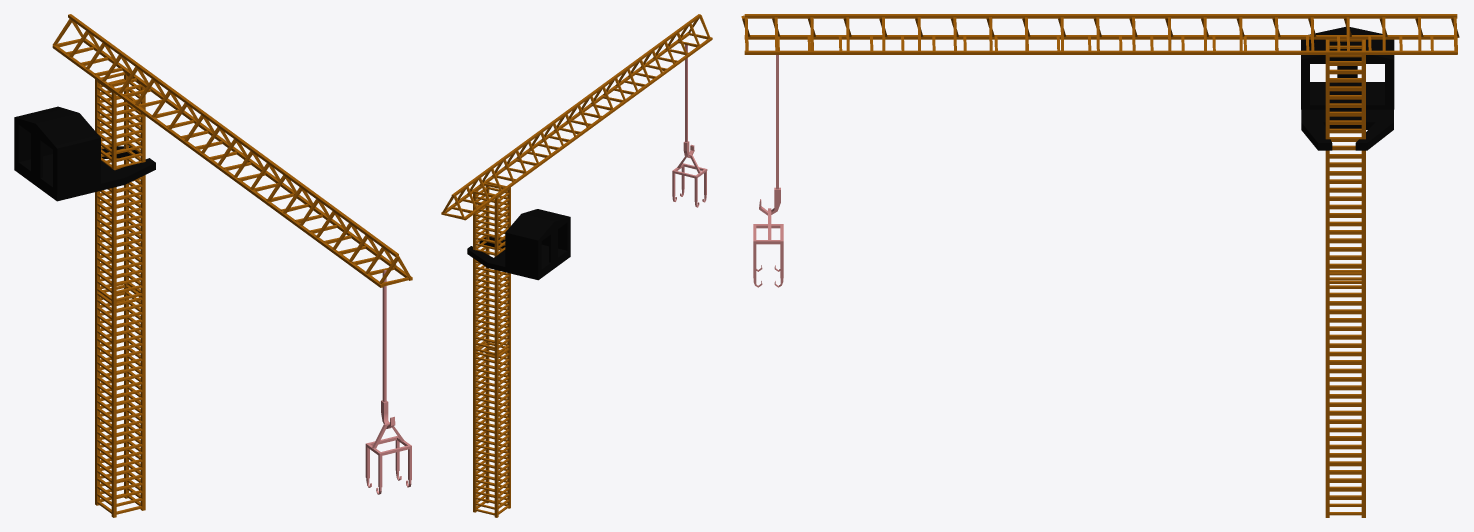
The model's file is Krane.fbx.
3 views of the same model, side by side, from view 1: azimuth 30°, elevation 25°; view 2: azimuth 150°, elevation 25°; view 3: azimuth 270°, elevation 25° (orthographic). The views are drawn at different scales.
Visible parts, largest first — view 1: Crane; view 2: Crane; view 3: Crane.
Part boxes in pixels (box(x1,y1,x2,y2)): Crane: box(14, 14, 412, 517); Crane: box(441, 14, 712, 517); Crane: box(741, 14, 1459, 517).
Bounding box in the file's own units: 41.57 × 169 × 223.
